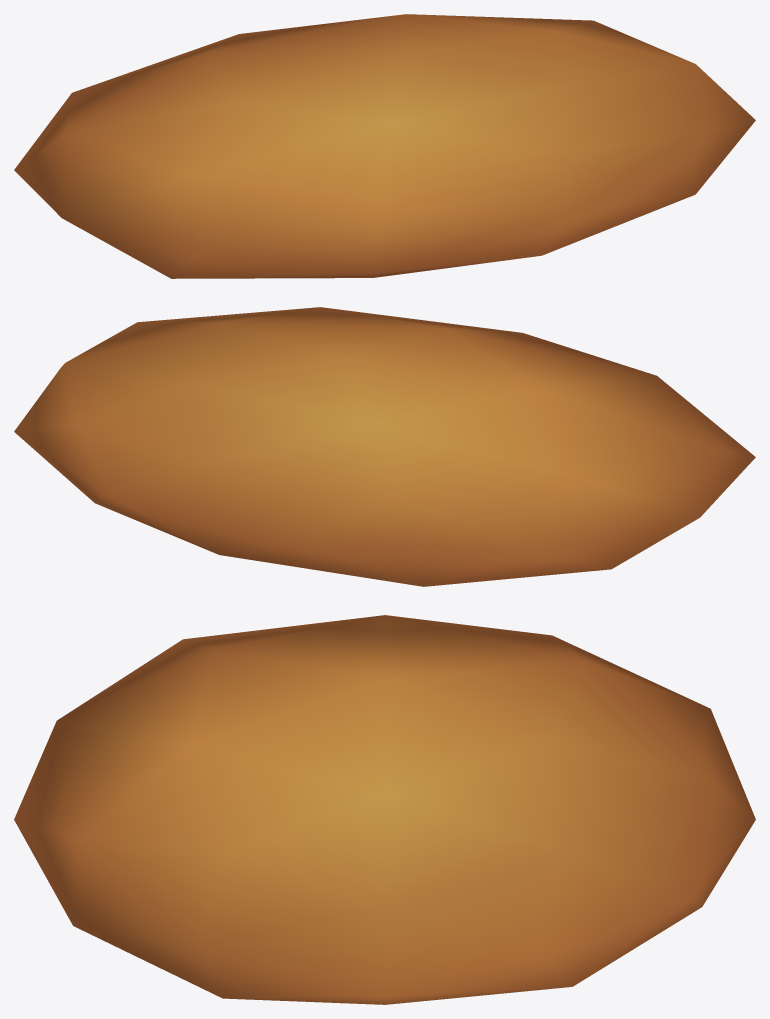
File: leafpile_0.glb
3 views of the same model, one above another, from view 1: azimuth 30°, elevation 25°; view 2: azimuth 150°, elevation 25°; view 3: azimuth 270°, elevation 25° (orthographic). The views are drawn at different scales.
Visible parts, largest first — view 1: leafpile_0; view 2: leafpile_0; view 3: leafpile_0.
Part boxes in pixels (x1,y1,x2,y2): leafpile_0: (14, 14, 755, 278); leafpile_0: (14, 307, 755, 586); leafpile_0: (14, 615, 755, 1004).
Bounding box in the file's own units: 1.98 × 0.0592 × 1.63.
